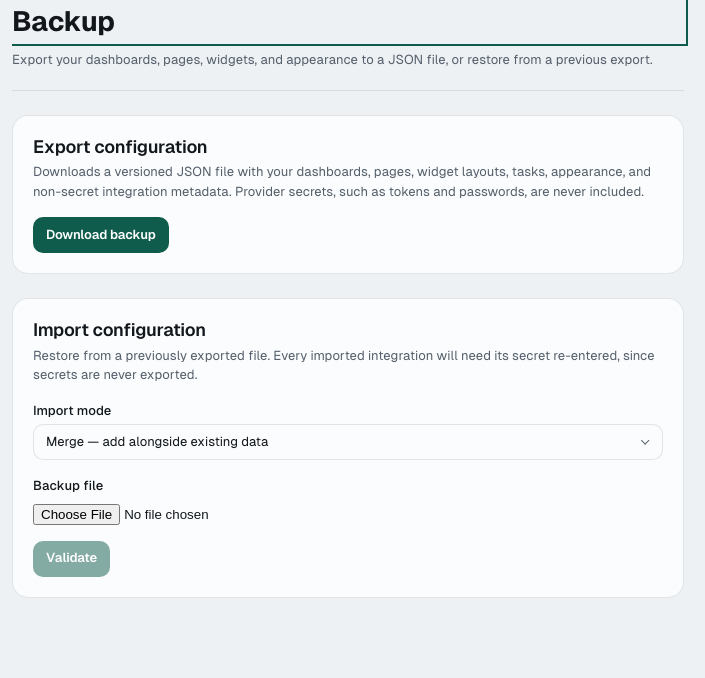
Scenario: BackupPage › downloads an export via the API
Expected: the heading "Backup" is shown, [12,5,114,37]
Click the button "Download backup" at [101, 235], box [33,217,169,253]
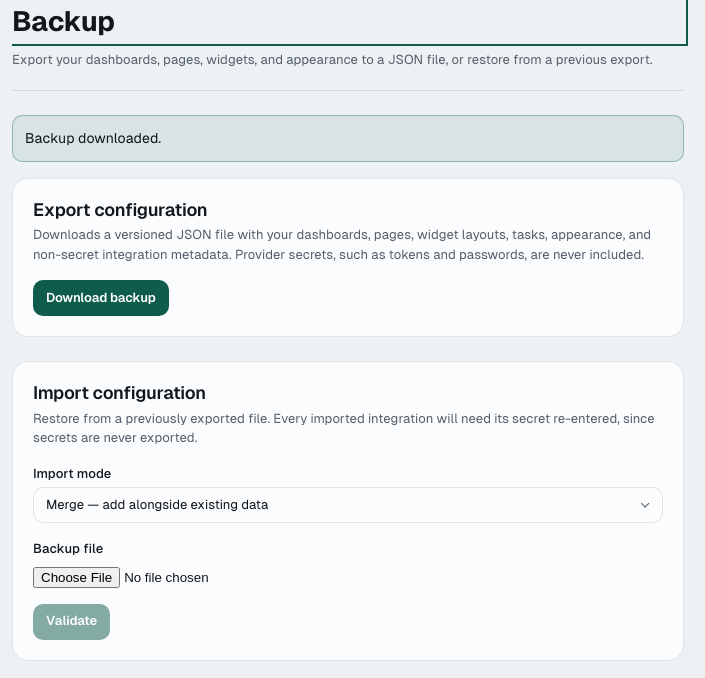
Result: the text "Backup downloaded." is shown at [12,114,684,162]
